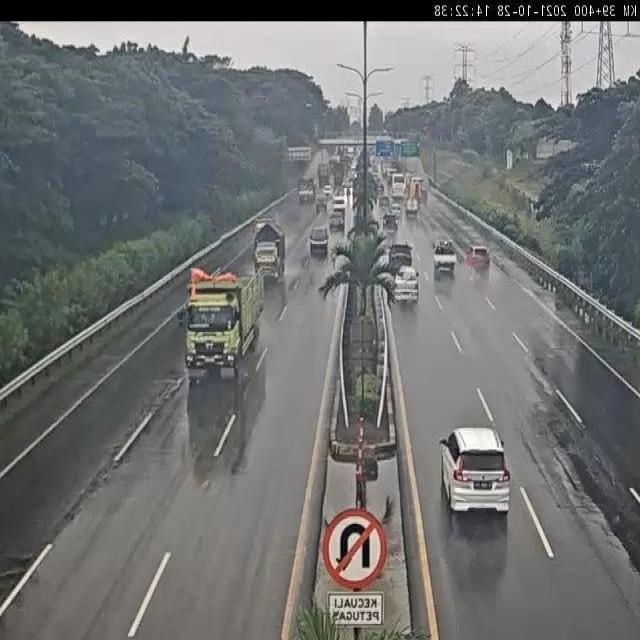Car: (440, 423, 512, 516), (388, 264, 419, 311), (432, 230, 460, 282), (306, 224, 332, 270), (468, 233, 487, 286), (390, 242, 418, 266), (328, 208, 349, 235), (384, 206, 400, 236), (322, 175, 334, 202), (316, 193, 328, 219)
Truck: (188, 259, 267, 377), (228, 198, 290, 288), (286, 151, 310, 224), (404, 184, 422, 217)
